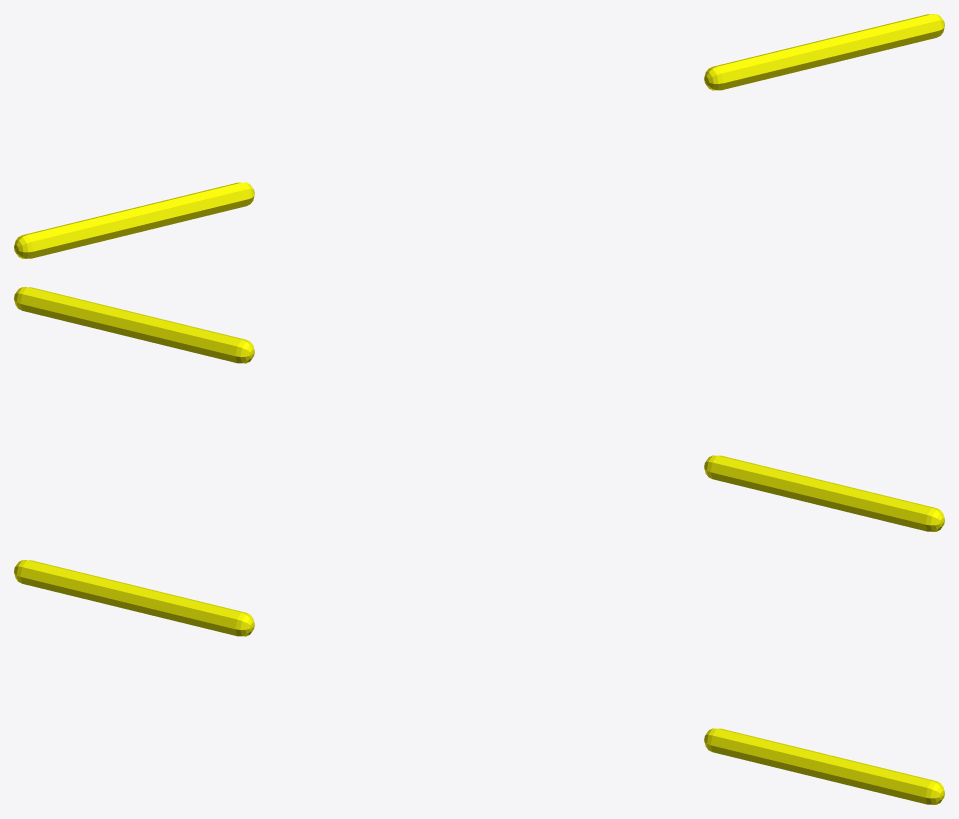
File: pipe_edge_gap.glb
3 views of the same model, one above another, from view 1: azimuth 30°, elevation 25°; view 2: azimuth 150°, elevation 25°; view 3: azimuth 330°, elevation 25° (orthographic).
Visible parts, largest first — view 1: pipe_2; view 2: pipe_2; view 3: pipe_2.
Boxes of the visible parts, left/top/right/bottom form: pipe_2: left=14, top=14, right=944, bottom=258; pipe_2: left=14, top=287, right=944, bottom=531; pipe_2: left=14, top=560, right=944, bottom=804.
Bounding box in the file's own units: 4.1 × 0.1 × 0.1.
